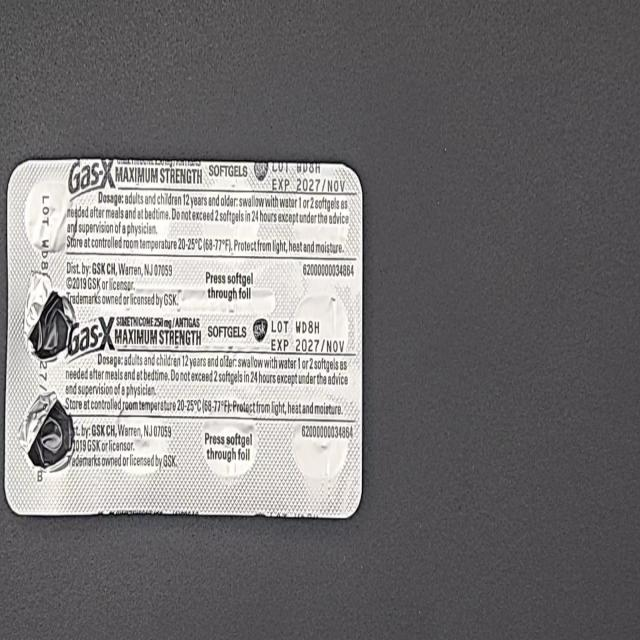defect: (14, 386, 76, 478), (22, 268, 78, 366)
